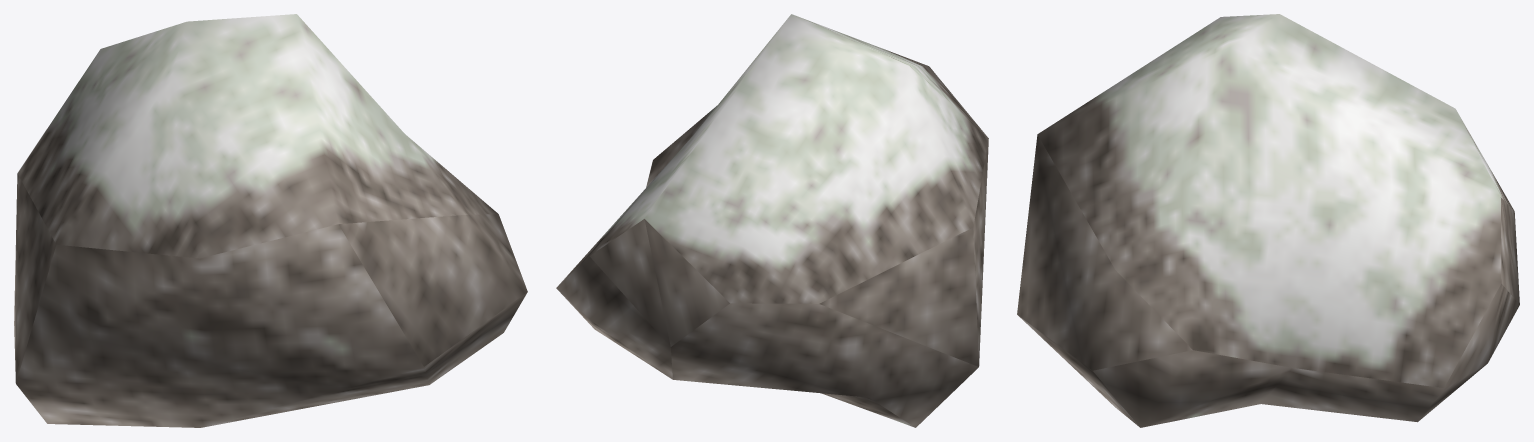
The model's file is mbouldersno_0.obj.
3 views of the same model, side by side, from view 1: azimuth 30°, elevation 25°; view 2: azimuth 150°, elevation 25°; view 3: azimuth 270°, elevation 25° (orthographic). The views are drawn at different scales.
Parts seen in each view (by area): view 1: mbouldersno_0; view 2: mbouldersno_0; view 3: mbouldersno_0.
Boxes of the visible parts, x1,y1,x2,y2 form: mbouldersno_0: (14,14,527,427); mbouldersno_0: (556,14,988,427); mbouldersno_0: (1017,14,1519,427).
Bounding box in the file's own units: 1.68 × 1.48 × 1.78.
